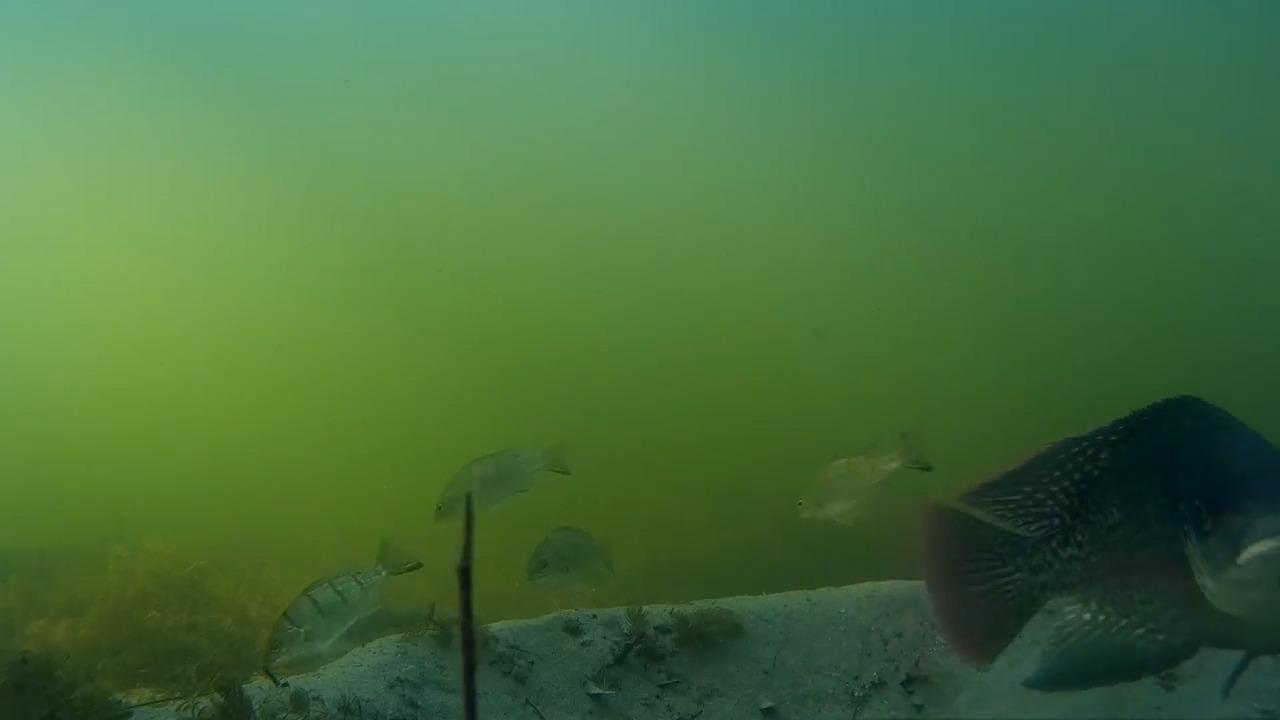Tilapia: (945, 390, 1280, 711), (264, 545, 439, 704), (783, 426, 935, 540), (435, 438, 574, 530), (514, 524, 643, 602)
